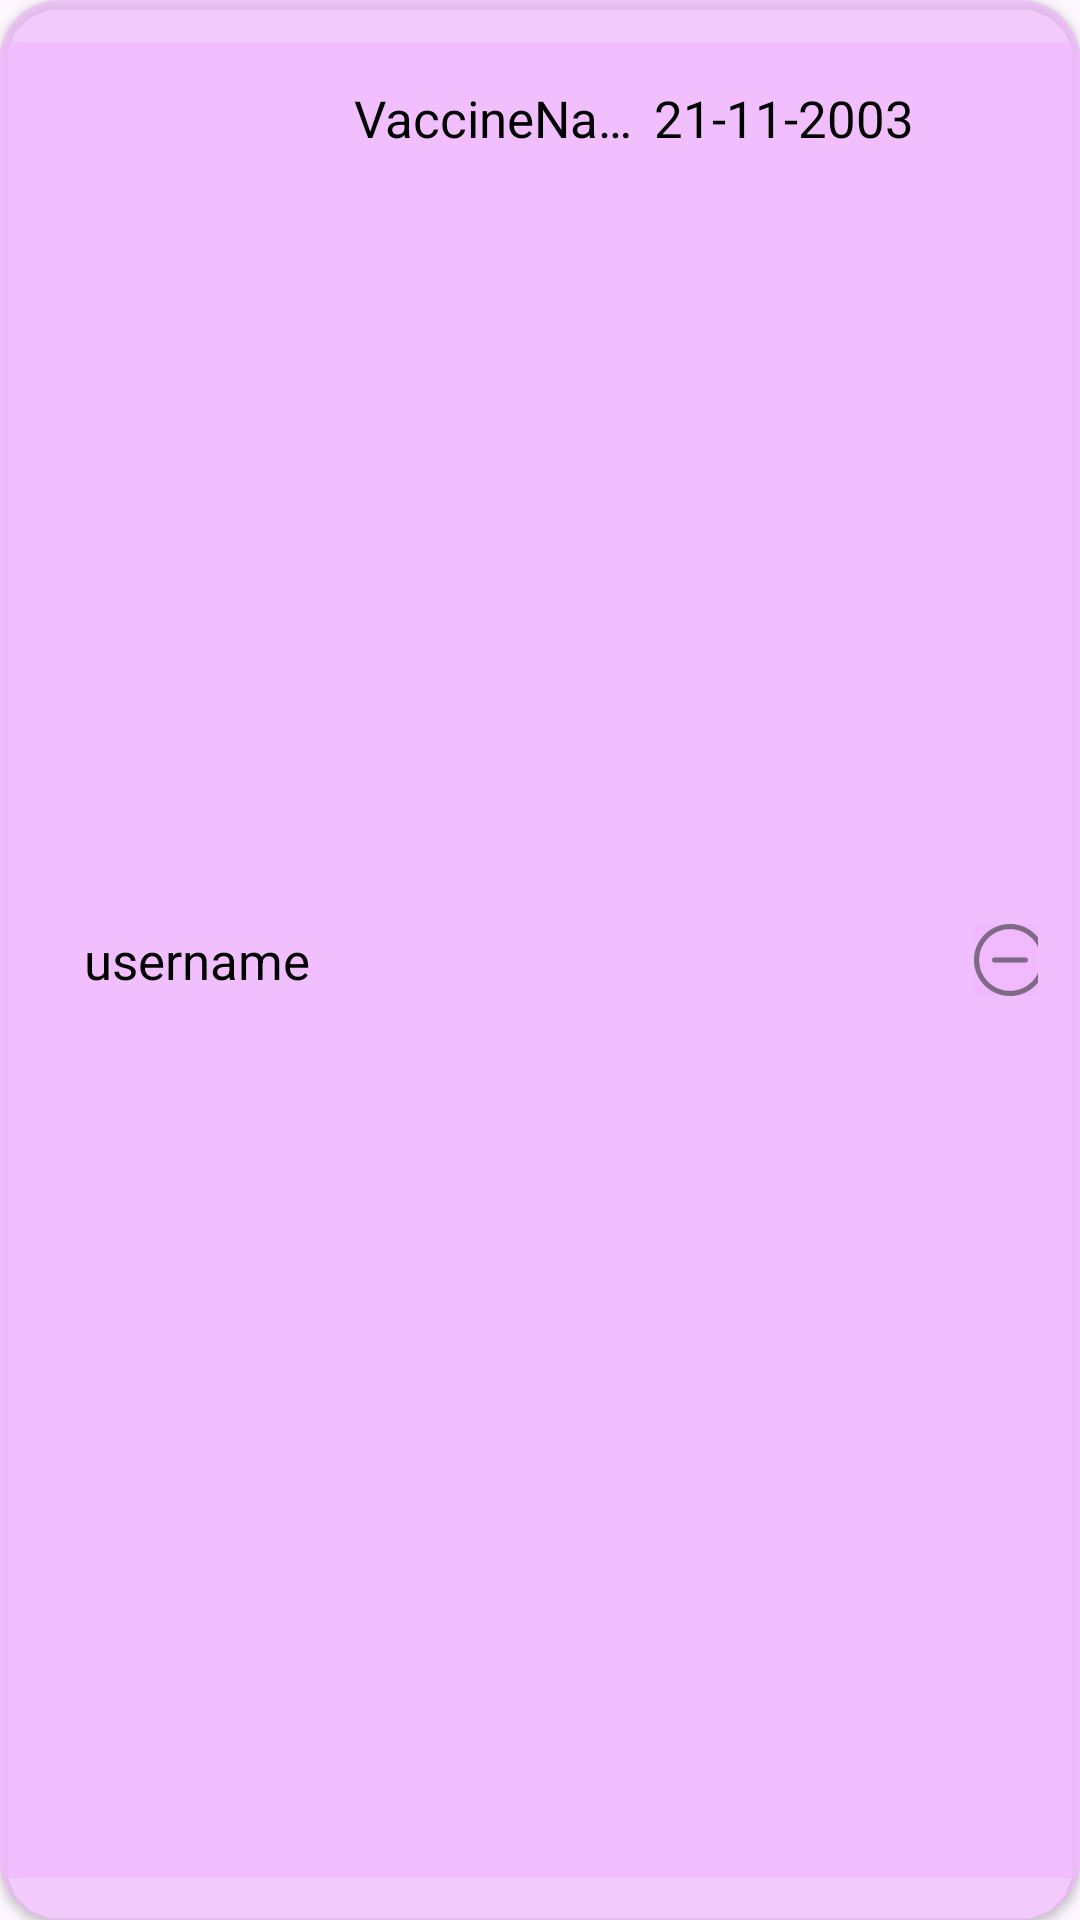

Icon bounding boxes for this 1080*1920 phone screenshot, format [x1, y1, x2, y2]:
minus: [974, 924, 1038, 996]
